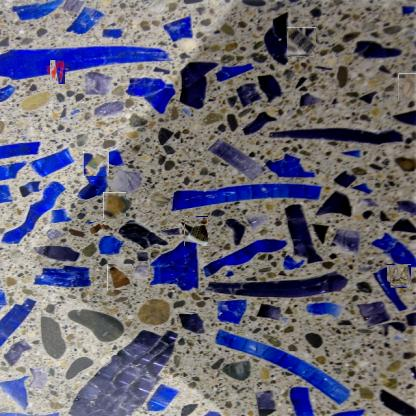dirty: (287, 27, 316, 57), (184, 216, 208, 246), (83, 151, 109, 176), (107, 264, 132, 290), (387, 264, 411, 288), (398, 73, 416, 100), (87, 222, 113, 236)
liquid: (103, 192, 126, 219), (48, 62, 68, 82)
